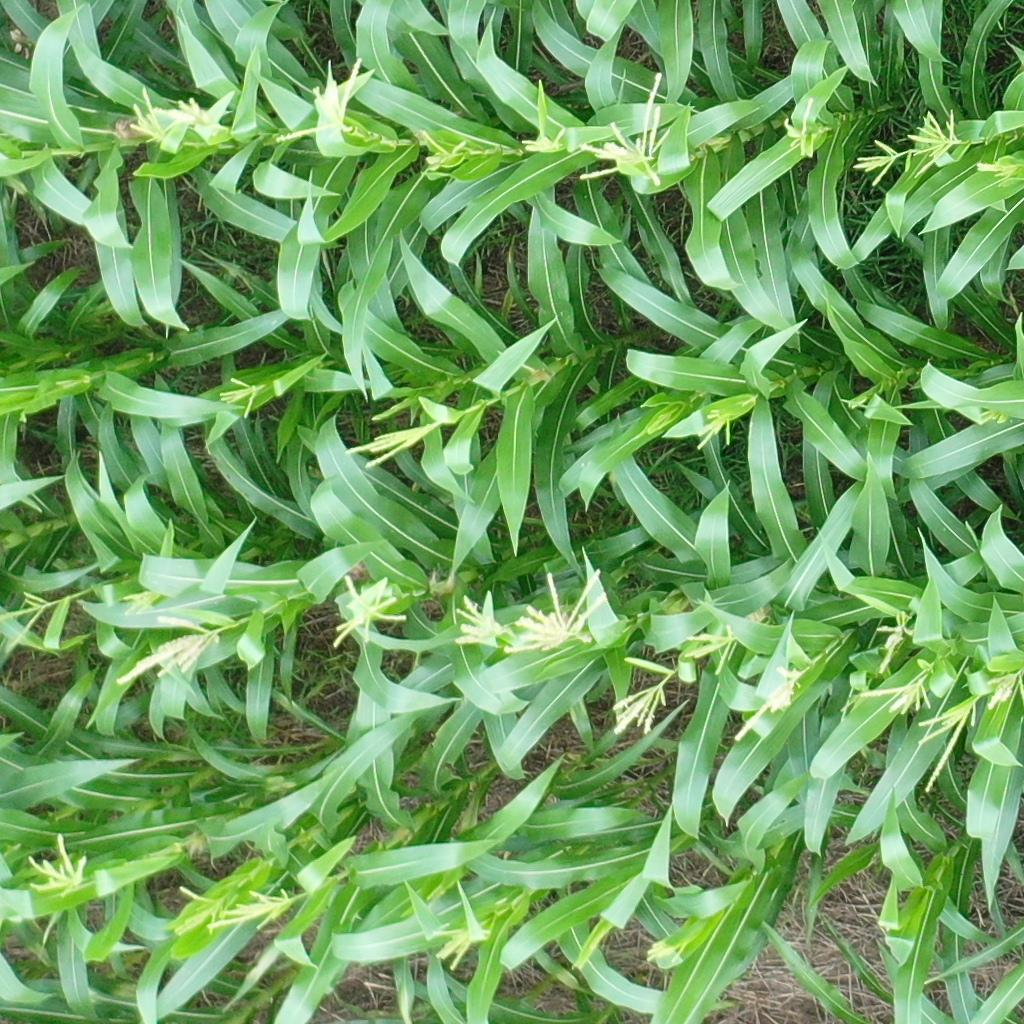Tassel: (579, 69, 679, 191), (505, 566, 609, 656), (271, 55, 368, 146), (109, 614, 224, 685), (328, 574, 412, 649), (344, 407, 437, 468), (916, 705, 977, 794), (734, 667, 806, 741), (207, 885, 297, 935), (905, 107, 966, 177), (26, 830, 87, 900), (1, 588, 52, 657), (428, 923, 494, 973), (154, 91, 222, 139), (168, 885, 227, 939), (451, 590, 502, 649), (857, 677, 936, 715), (681, 624, 738, 676), (873, 608, 915, 678), (610, 685, 667, 735), (849, 134, 900, 185), (419, 125, 470, 173), (781, 95, 822, 153), (123, 85, 165, 140), (215, 378, 261, 424), (972, 156, 1024, 194), (695, 407, 738, 452), (984, 670, 1024, 711), (522, 124, 570, 155), (119, 590, 162, 616), (643, 937, 687, 962), (977, 406, 1012, 430)
